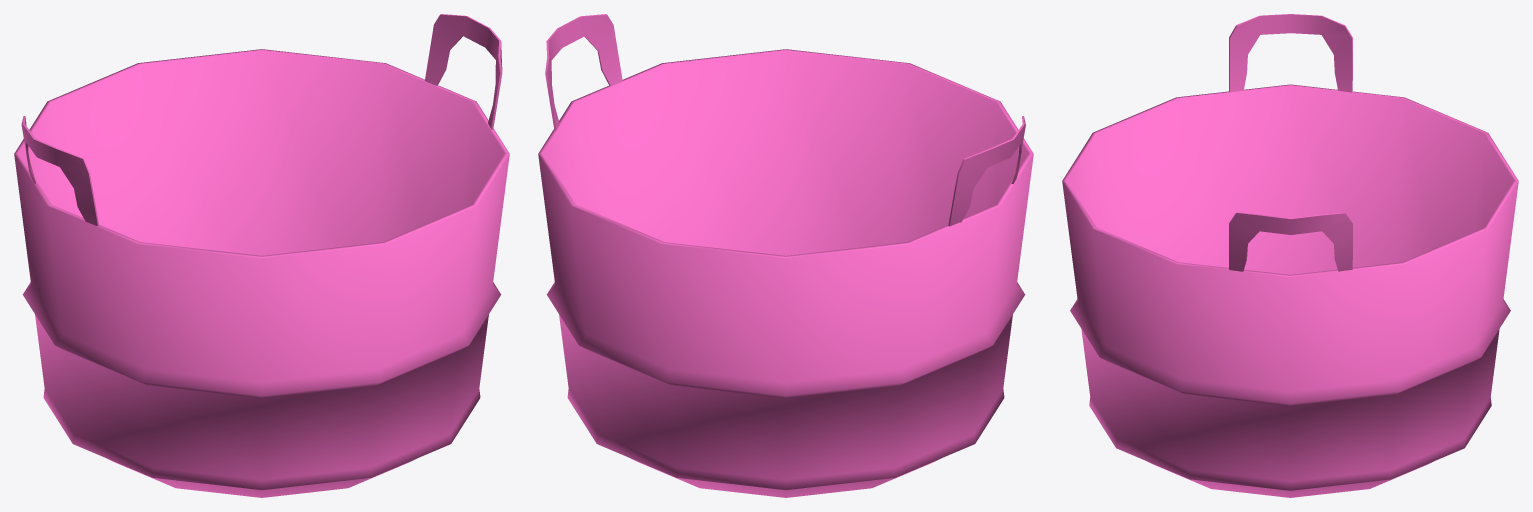
The model's file is Laundry_Tub_H.FBX.
The picture shows the model from 3 angles, left to right: view 1: azimuth 30°, elevation 25°; view 2: azimuth 150°, elevation 25°; view 3: azimuth 270°, elevation 25°; orthographic projection. The views are drawn at different scales.
Parts seen in each view (by area): view 1: Laundry_Tub; view 2: Laundry_Tub; view 3: Laundry_Tub.
Boxes of the visible parts, x1,y1,x2,y2 form: Laundry_Tub: (14, 14, 509, 497); Laundry_Tub: (538, 14, 1033, 497); Laundry_Tub: (1062, 14, 1518, 497).
Bounding box in the file's own units: 102 × 73.29 × 96.11.
